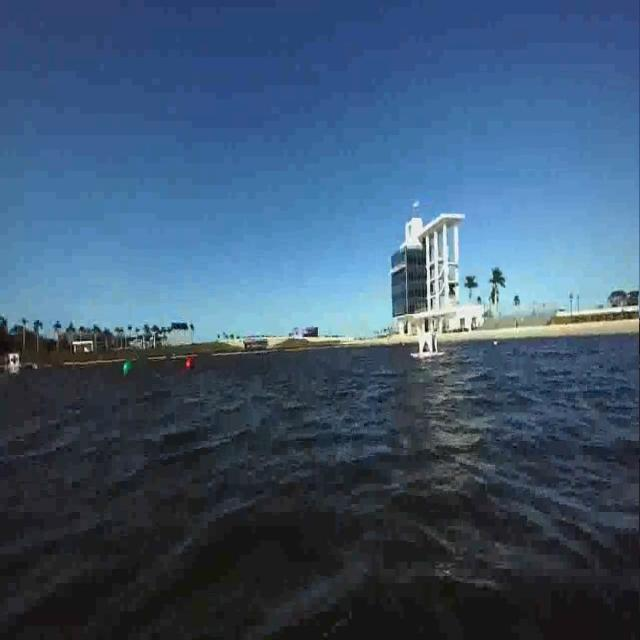green-buoy: (122, 361, 131, 374)
red-column-buoy: (186, 357, 192, 368)
